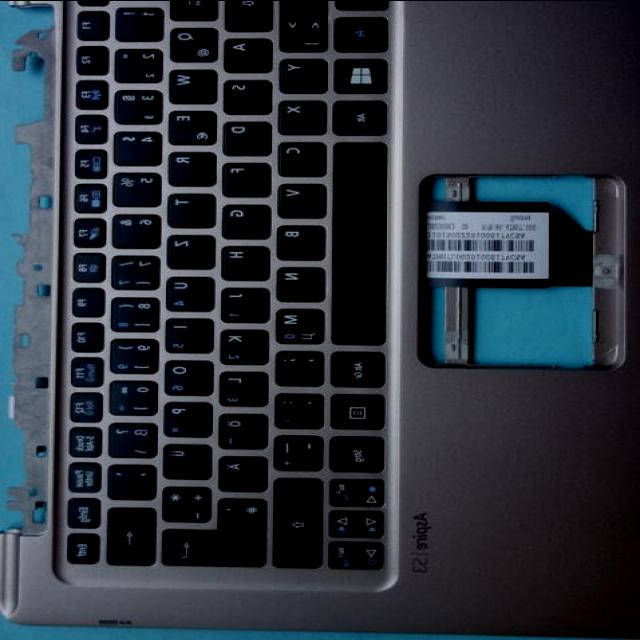0: (106, 378, 156, 414)
1: (112, 4, 162, 40)
2: (111, 46, 159, 82)
3: (111, 87, 163, 123)
4: (110, 128, 160, 164)
5: (110, 170, 158, 206)
6: (110, 212, 158, 246)
7: (108, 253, 158, 289)
8: (109, 295, 157, 331)
9: (107, 336, 155, 372)
a: (221, 35, 271, 71)
accent: (104, 462, 154, 498)
ae: (216, 453, 266, 491)
alt-left: (329, 98, 387, 134)
altgr-right: (328, 349, 383, 385)
b: (273, 223, 324, 259)
c: (274, 139, 324, 175)
caret: (113, 0, 160, 12)
comma: (272, 348, 323, 384)
d: (220, 119, 270, 153)
del: (103, 505, 154, 565)
e: (166, 107, 216, 143)
enter: (160, 527, 267, 567)
f: (220, 160, 270, 196)
g: (218, 201, 269, 237)
h: (218, 243, 268, 279)
hash: (214, 495, 265, 533)
i: (162, 316, 212, 352)
j: (217, 285, 268, 321)
k: (217, 327, 268, 363)
keyboard: (55, 0, 402, 588)
l: (216, 369, 267, 405)
less: (276, 14, 326, 50)
m: (273, 306, 323, 342)
minus: (271, 433, 322, 469)
n: (273, 264, 325, 300)
o: (161, 358, 213, 394)
oe: (216, 411, 267, 447)
p: (161, 399, 211, 435)
plus: (159, 484, 209, 521)
point: (272, 390, 326, 428)
q: (168, 24, 216, 60)
r: (166, 149, 214, 185)
s: (221, 77, 271, 113)
shift-left: (278, 0, 330, 20)
shift-lock: (223, 0, 275, 30)
shift-right: (271, 475, 323, 567)
space: (329, 137, 387, 345)
ss: (104, 420, 158, 456)
strg-left: (332, 0, 390, 18)
strg-right: (327, 433, 383, 471)
t: (165, 191, 213, 227)
tab: (166, 0, 217, 23)
u: (162, 274, 214, 310)
ue: (160, 442, 211, 478)
v: (274, 181, 324, 217)
w: (166, 67, 216, 103)
x: (275, 98, 326, 134)
y: (276, 56, 328, 92)
z: (165, 232, 213, 268)
